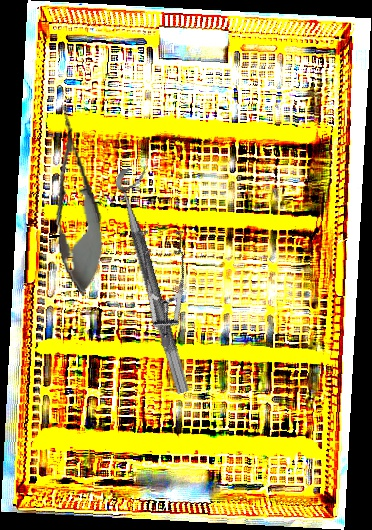Fixation Ring: (112, 163, 209, 395)
Micro Scissor: (42, 102, 110, 298)
Speculum: (94, 211, 223, 350)
